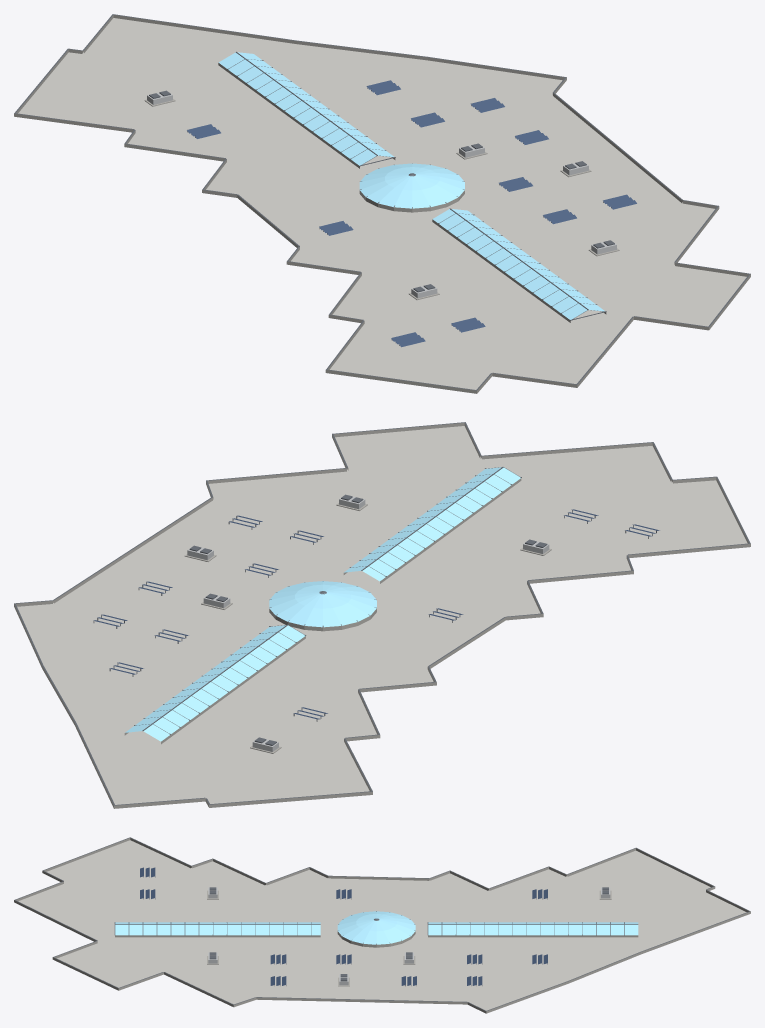
The model's file is unicentro_cubierta.glb.
3 views of the same model, one above another, from view 1: azimuth 30°, elevation 25°; view 2: azimuth 150°, elevation 25°; view 3: azimuth 270°, elevation 25° (orthographic). The views are drawn at different scales.
Visible parts, largest first — view 1: Cubierta_Unicentro; view 2: Cubierta_Unicentro; view 3: Cubierta_Unicentro.
Part boxes in pixels (box(x1,y1,x2,y2)): Cubierta_Unicentro: box(14, 14, 750, 393); Cubierta_Unicentro: box(14, 422, 750, 808); Cubierta_Unicentro: box(14, 837, 750, 1013).
Bounding box in the file's own units: 176 × 5.63 × 315.
